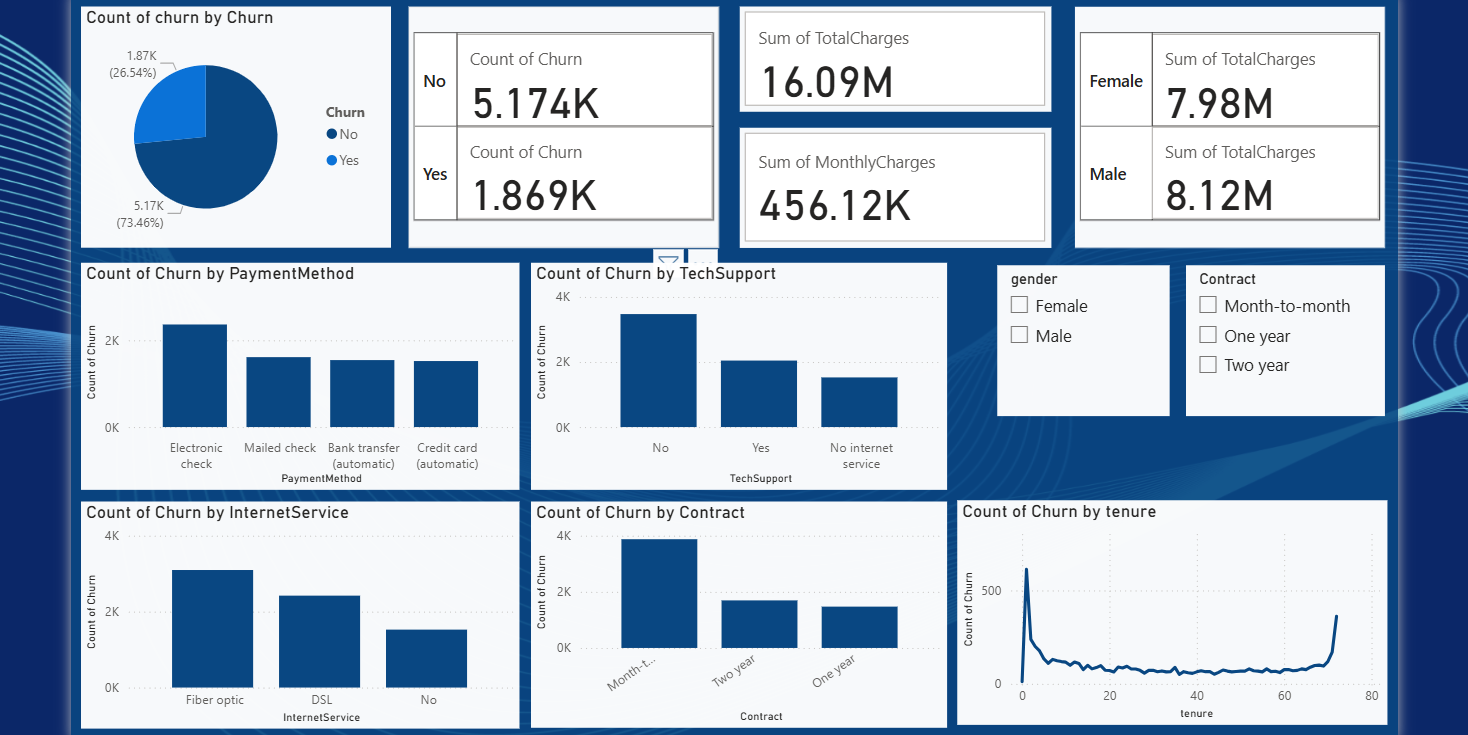

Layout of this report page (visuals, bound fields, positions):
{"tool":"powerbi","page":{"name":"Page 1","canvas":[1280,720],"ordinal":0},"visuals":[{"type":"pieChart","fields":{"Y":["CountNonNull(WA_Fn-UseC_-Telco-Customer-Churn.Churn)"],"Category":["WA_Fn-UseC_-Telco-Customer-Churn.Churn"]},"box":[9.7,12.1,299.2,232.8],"z":0},{"type":"cardVisual","fields":{"Data":["CountNonNull(WA_Fn-UseC_-Telco-Customer-Churn.Churn)"],"Rows":["WA_Fn-UseC_-Telco-Customer-Churn.Churn"]},"box":[325.7,12.1,299.2,232.8],"z":1000},{"type":"slicer","fields":{"Values":["WA_Fn-UseC_-Telco-Customer-Churn.gender"]},"box":[894,261.8,166.5,146],"z":2000},{"type":"clusteredColumnChart","fields":{"Category":["WA_Fn-UseC_-Telco-Customer-Churn.Contract"],"Y":["CountNonNull(WA_Fn-UseC_-Telco-Customer-Churn.Churn)"]},"box":[444,489.8,401.7,218.4],"z":3000},{"type":"slicer","fields":{"Values":["WA_Fn-UseC_-Telco-Customer-Churn.Contract"]},"box":[1076.1,261.8,191.8,146],"z":4000},{"type":"clusteredColumnChart","fields":{"Category":["WA_Fn-UseC_-Telco-Customer-Churn.InternetService"],"Y":["CountNonNull(WA_Fn-UseC_-Telco-Customer-Churn.Churn)"]},"box":[9.7,489.8,423.5,219.6],"z":5000},{"type":"lineChart","fields":{"Category":["WA_Fn-UseC_-Telco-Customer-Churn.tenure"],"Y":["CountNonNull(WA_Fn-UseC_-Telco-Customer-Churn.Churn)"]},"box":[855.4,488.6,415,217.2],"z":6000},{"type":"cardVisual","fields":{"Data":["Sum(WA_Fn-UseC_-Telco-Customer-Churn.MonthlyCharges)"]},"box":[645.4,129.1,300.4,115.8],"z":7000},{"type":"clusteredColumnChart","fields":{"Category":["WA_Fn-UseC_-Telco-Customer-Churn.TechSupport"],"Y":["CountNonNull(WA_Fn-UseC_-Telco-Customer-Churn.Churn)"]},"box":[444,259.4,401.7,219.6],"z":8000},{"type":"cardVisual","fields":{"Data":["Sum(WA_Fn-UseC_-Telco-Customer-Churn.TotalCharges)"],"Rows":["WA_Fn-UseC_-Telco-Customer-Churn.gender"]},"box":[968.8,12.1,299.2,232.8],"z":9000},{"type":"columnChart","fields":{"Y":["CountNonNull(WA_Fn-UseC_-Telco-Customer-Churn.Churn)"],"Category":["WA_Fn-UseC_-Telco-Customer-Churn.PaymentMethod"]},"box":[9.7,259.4,423.5,219.6],"z":10000},{"type":"cardVisual","fields":{"Data":["Sum(WA_Fn-UseC_-Telco-Customer-Churn.TotalCharges)"]},"box":[645.4,12.1,300.4,101.3],"z":11000}]}

Visuals, with their boxes in screenshot pixels (x1, y1, x2, y2):
pieChart - CountNonNull(WA_Fn-UseC_-Telco-Customer-Churn.Churn) x WA_Fn-UseC_-Telco-Customer-Churn.Churn: 75, 1, 387, 244
cardVisual - CountNonNull(WA_Fn-UseC_-Telco-Customer-Churn.Churn) x WA_Fn-UseC_-Telco-Customer-Churn.Churn: 404, 1, 716, 244
slicer - WA_Fn-UseC_-Telco-Customer-Churn.gender: 997, 261, 1170, 414
clusteredColumnChart - WA_Fn-UseC_-Telco-Customer-Churn.Contract x CountNonNull(WA_Fn-UseC_-Telco-Customer-Churn.Churn): 528, 499, 946, 727
slicer - WA_Fn-UseC_-Telco-Customer-Churn.Contract: 1187, 261, 1387, 414
clusteredColumnChart - WA_Fn-UseC_-Telco-Customer-Churn.InternetService x CountNonNull(WA_Fn-UseC_-Telco-Customer-Churn.Churn): 75, 499, 517, 728
lineChart - WA_Fn-UseC_-Telco-Customer-Churn.tenure x CountNonNull(WA_Fn-UseC_-Telco-Customer-Churn.Churn): 957, 498, 1389, 724
cardVisual - Sum(WA_Fn-UseC_-Telco-Customer-Churn.MonthlyCharges): 738, 123, 1051, 244
clusteredColumnChart - WA_Fn-UseC_-Telco-Customer-Churn.TechSupport x CountNonNull(WA_Fn-UseC_-Telco-Customer-Churn.Churn): 528, 259, 946, 488
cardVisual - Sum(WA_Fn-UseC_-Telco-Customer-Churn.TotalCharges) x WA_Fn-UseC_-Telco-Customer-Churn.gender: 1075, 1, 1387, 244
columnChart - CountNonNull(WA_Fn-UseC_-Telco-Customer-Churn.Churn) x WA_Fn-UseC_-Telco-Customer-Churn.PaymentMethod: 75, 259, 517, 488
cardVisual - Sum(WA_Fn-UseC_-Telco-Customer-Churn.TotalCharges): 738, 1, 1051, 107
